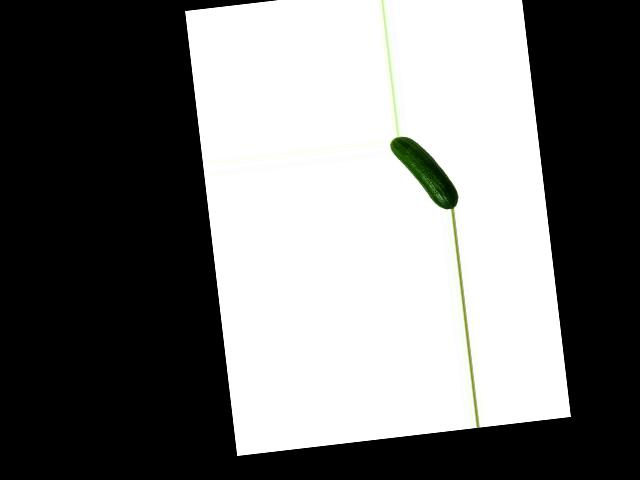cucumber: (389, 130, 460, 215)
